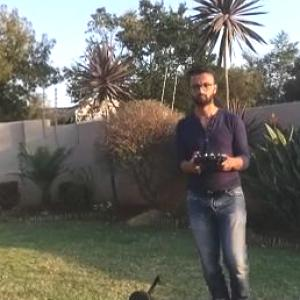follow: (177, 67, 263, 299)
